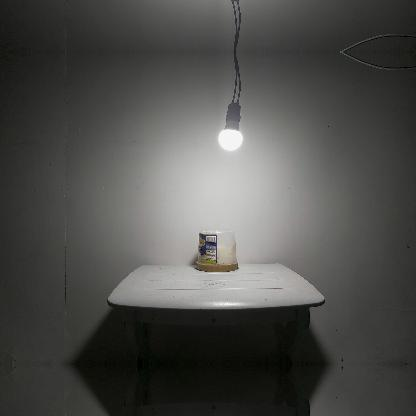Lady-s-Choice: (195, 225, 240, 273)
